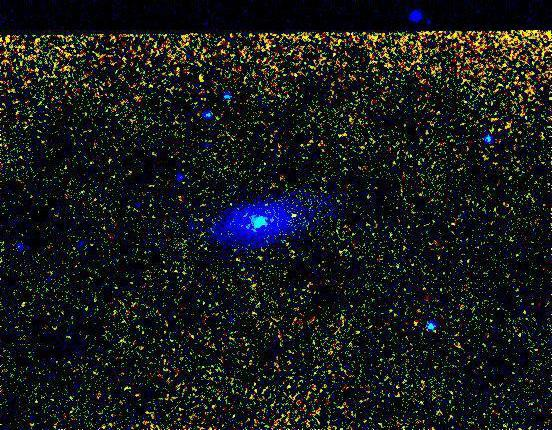star: (278, 199, 308, 229)
